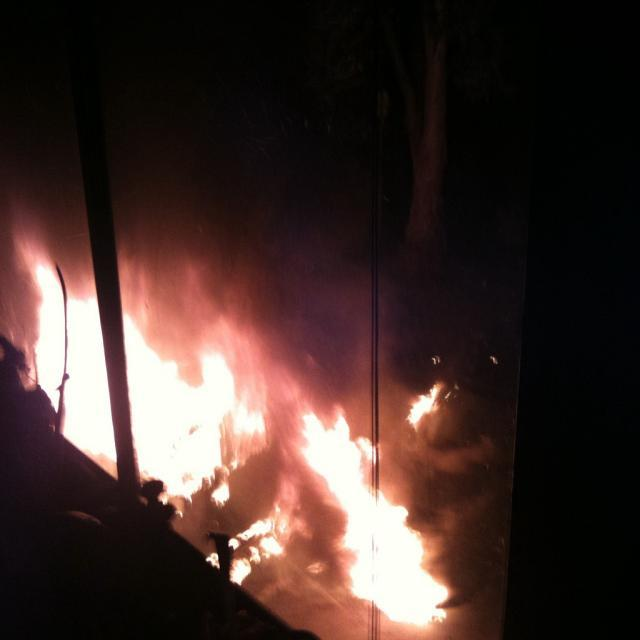Fire: (139, 375, 215, 477), (50, 296, 104, 436), (365, 514, 423, 608)
